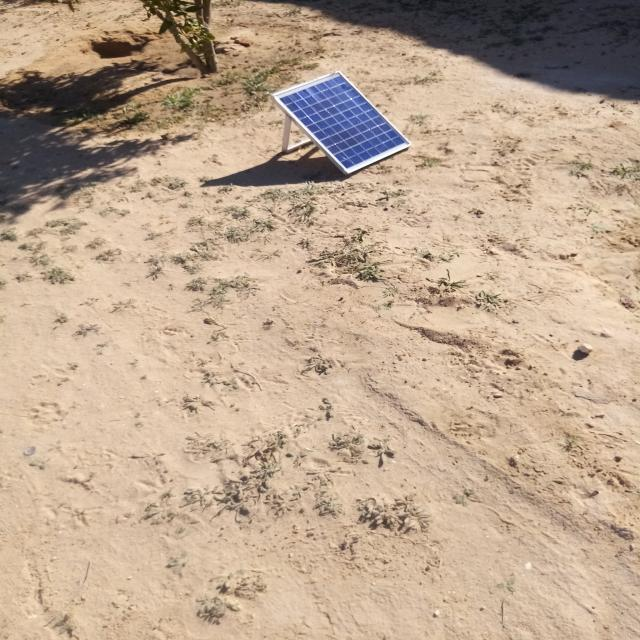no faulty: (273, 72, 411, 174)
